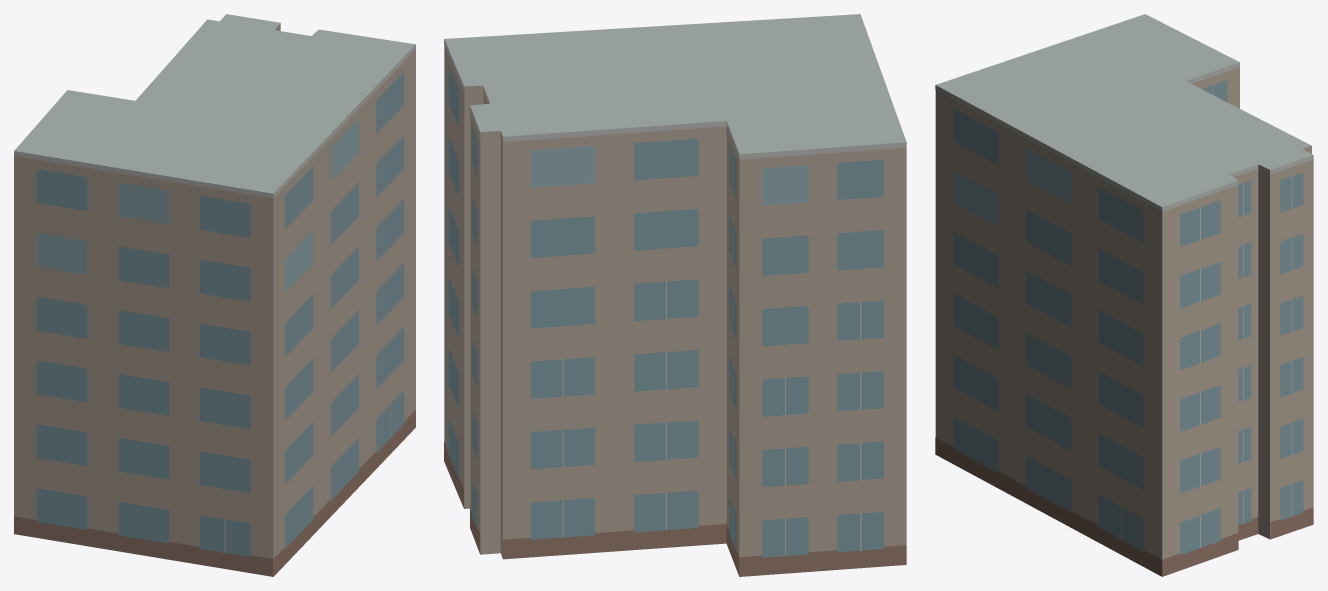
File: survey-upis-32865481.glb
The picture shows the model from 3 angles, left to right: view 1: azimuth 30°, elevation 25°; view 2: azimuth 150°, elevation 25°; view 3: azimuth 270°, elevation 25°; orthographic projection. The views are drawn at different scales.
Parts seen in each view (by area): view 1: survey-upis-32865481.tmp; view 2: survey-upis-32865481.tmp; view 3: survey-upis-32865481.tmp.
Boxes of the visible parts, x1,y1,x2,y2 form: survey-upis-32865481.tmp: (14, 14, 415, 576); survey-upis-32865481.tmp: (444, 14, 906, 576); survey-upis-32865481.tmp: (935, 14, 1313, 576).
Bounding box in the file's own units: 21.48 × 19.15 × 17.76.
